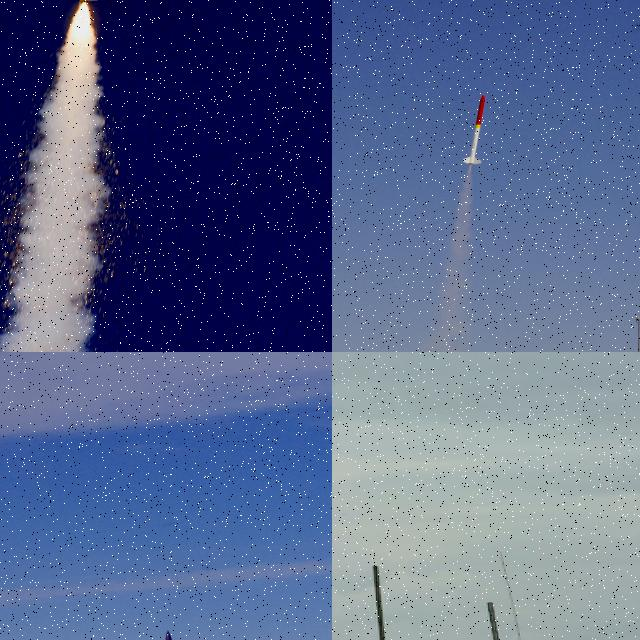Rocket: (460, 94, 486, 164)
